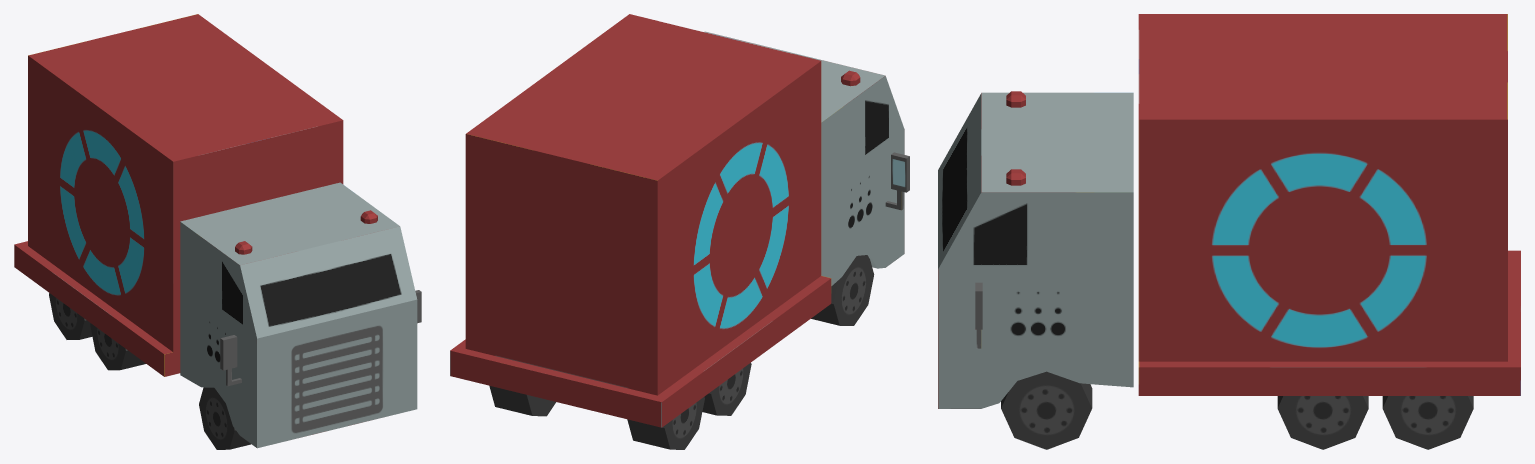
File: Camion_03.fbx
3 views of the same model, side by side, from view 1: azimuth 30°, elevation 25°; view 2: azimuth 150°, elevation 25°; view 3: azimuth 270°, elevation 25° (orthographic). The views are drawn at different scales.
Visible parts, largest first — view 1: polySurface5; view 2: polySurface5; view 3: polySurface5.
Part boxes in pixels (<box>): polySurface5: <box>14,14,421,449</box>; polySurface5: <box>450,14,909,449</box>; polySurface5: <box>938,14,1520,449</box>.
Bounding box in the file's own units: 101 × 128 × 202.
Materials: 1 (1 with a texture image).
